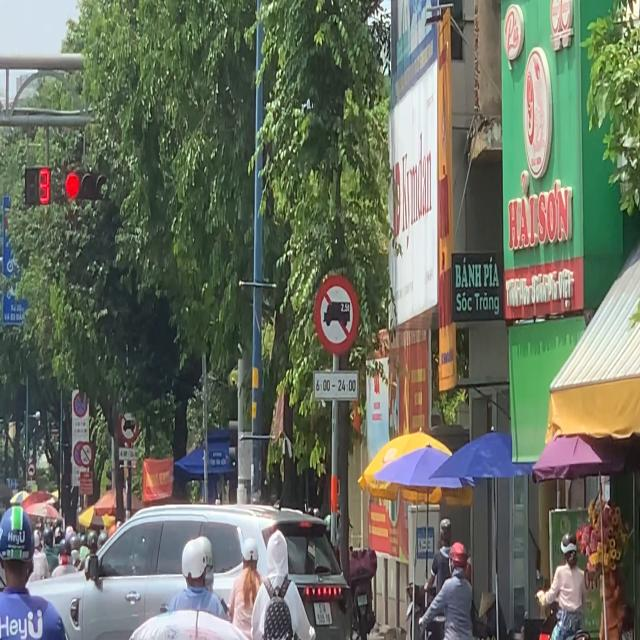Cam con lai: (313, 267, 357, 354)
